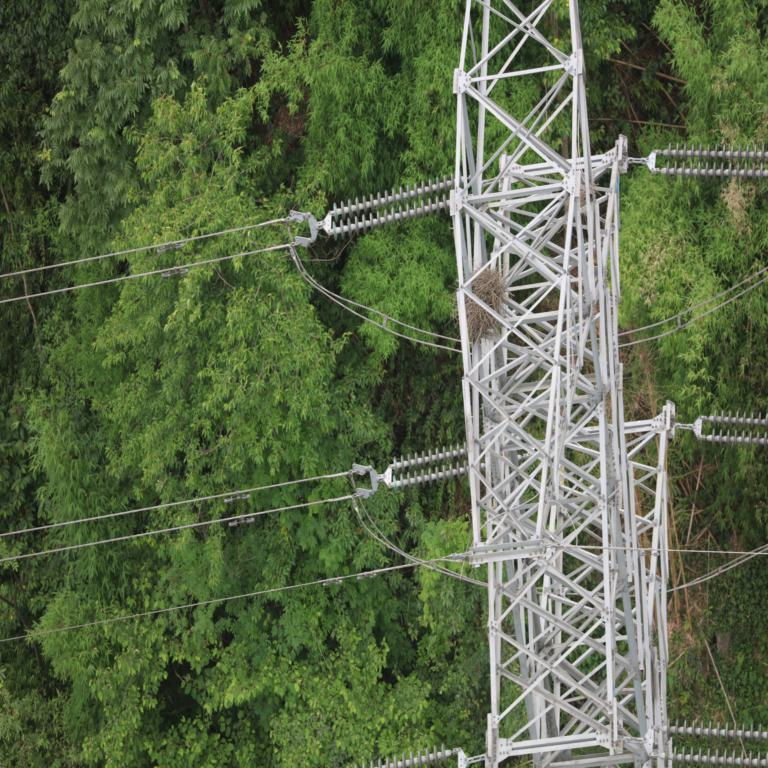nest: (460, 272, 504, 342)
